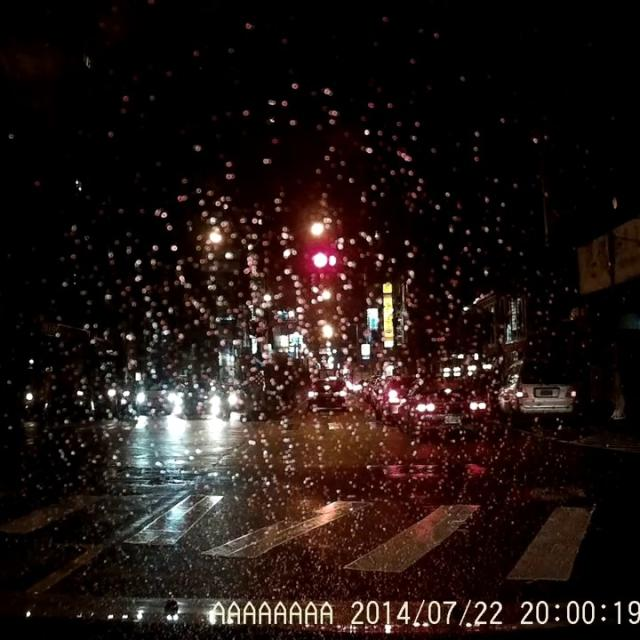Car: (395, 374, 493, 436), (494, 357, 579, 418), (372, 374, 419, 425), (171, 378, 229, 417), (304, 375, 349, 411)
